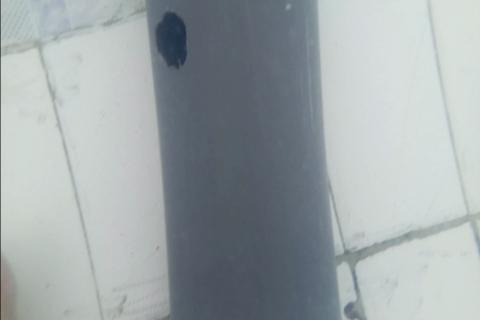kebocoran: (154, 10, 190, 70)
